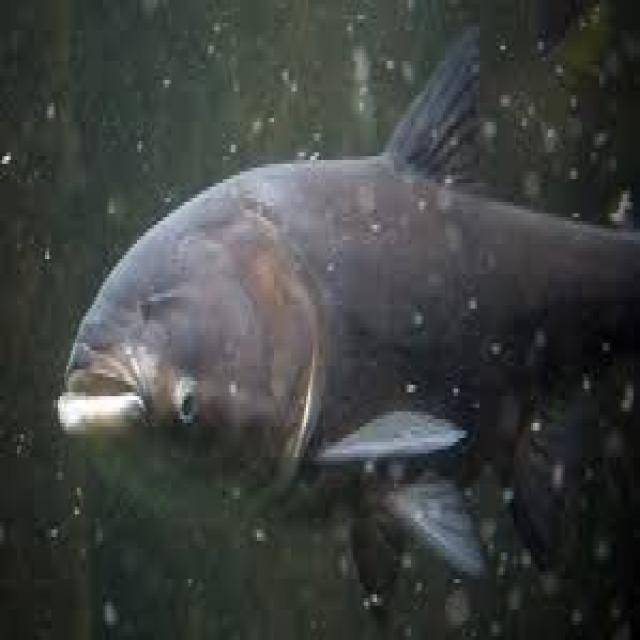Big-Head-Carp: (13, 15, 632, 626)
